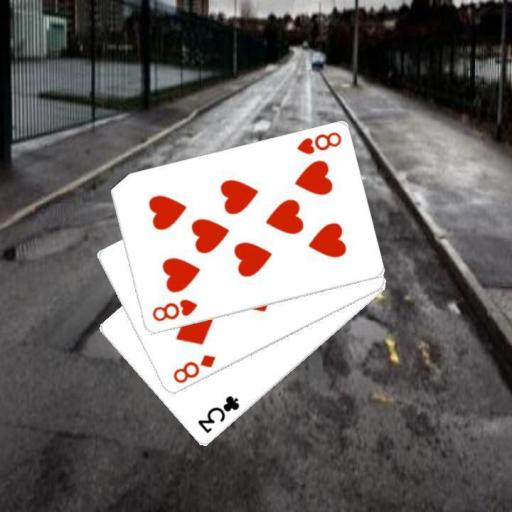card-corner: (194, 392, 241, 436), (169, 352, 218, 386), (149, 296, 199, 323), (293, 129, 343, 156)
